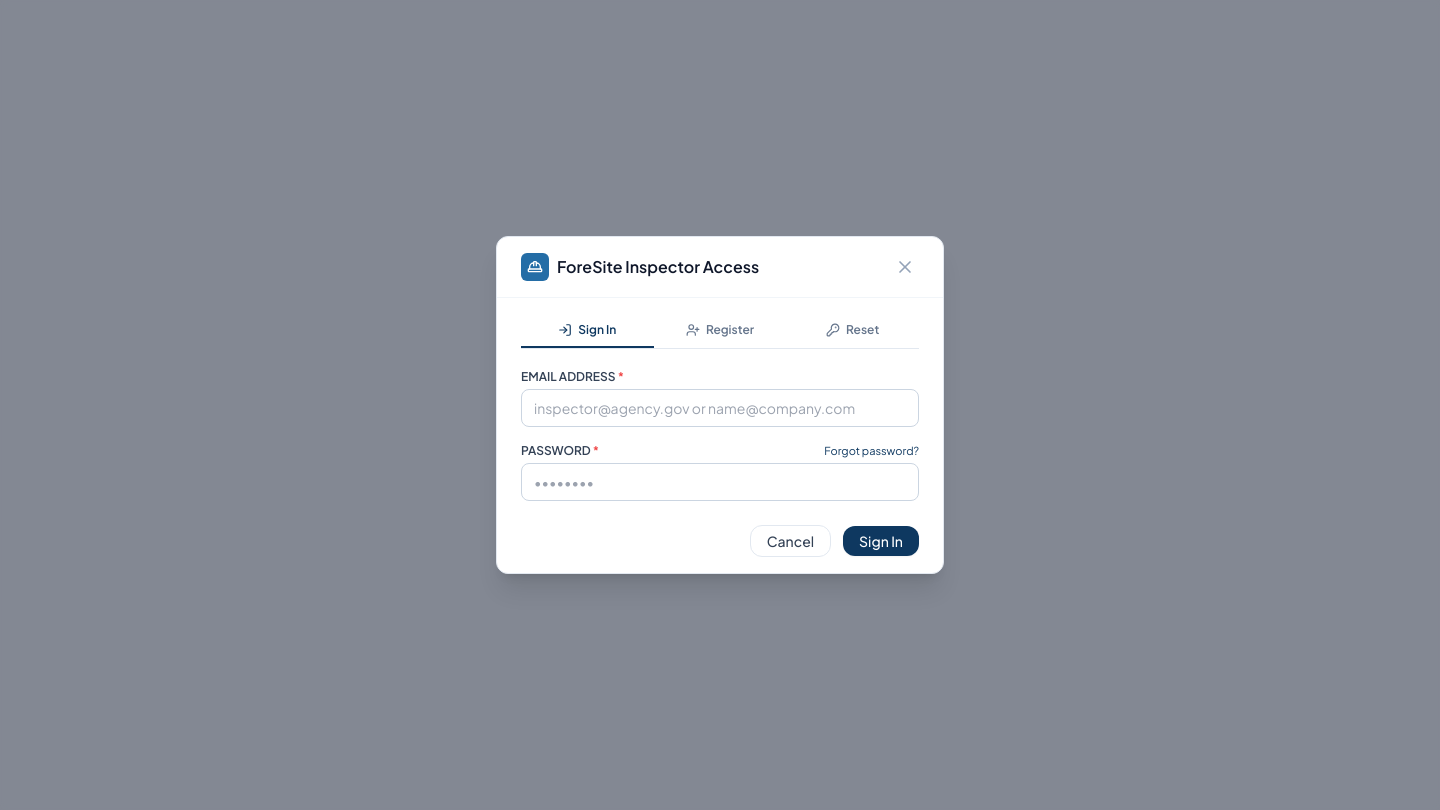
ForeSite Inspector Auth Modal UI › validates that password must be at least 6 characters on register
Click the button "Register".
click(720, 331)  # box [654,314,786,348]
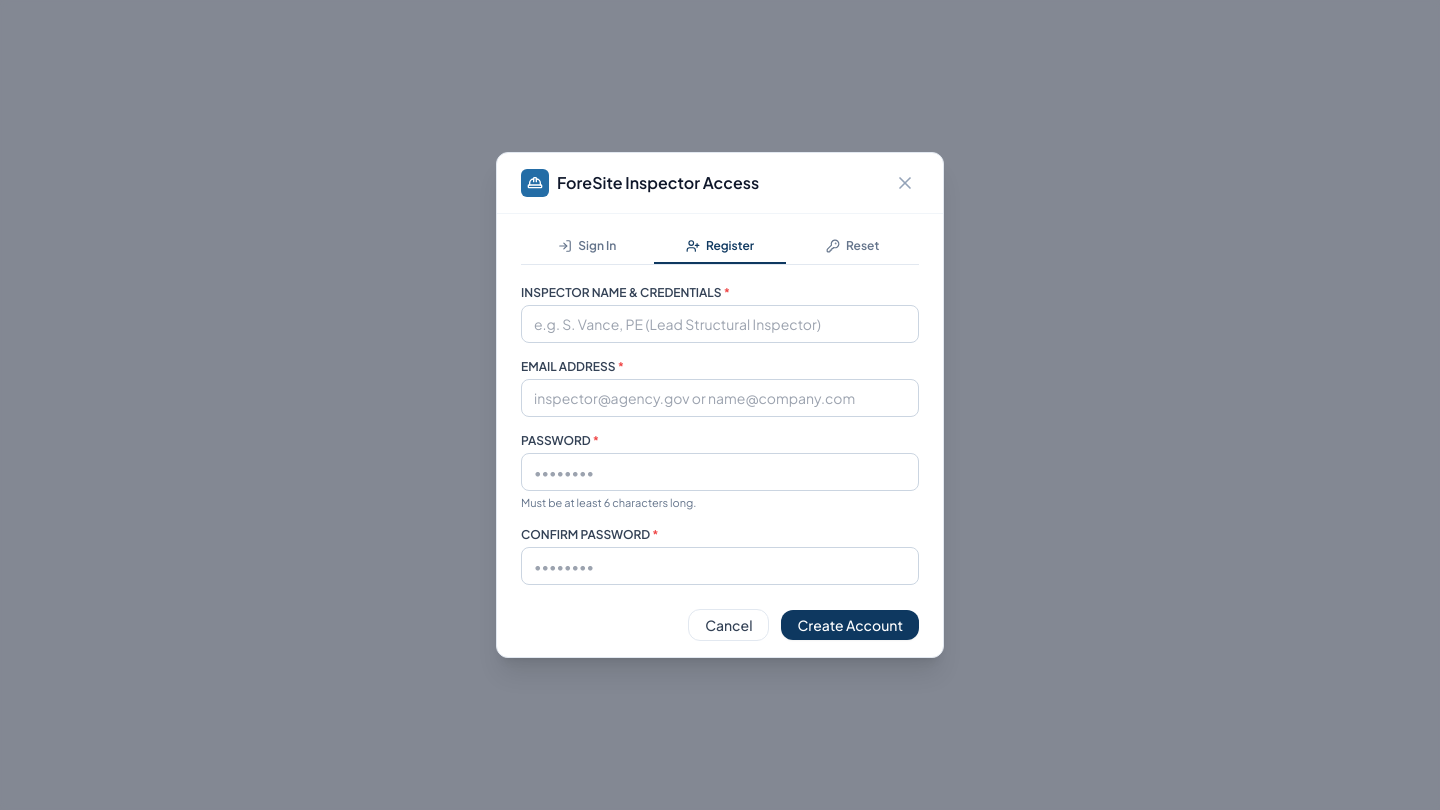
Type "John Doe, PE" into the field labelled "Inspector Name & Credentials *".
click(720, 324); type("John Doe, PE")  # box [521,305,919,343]
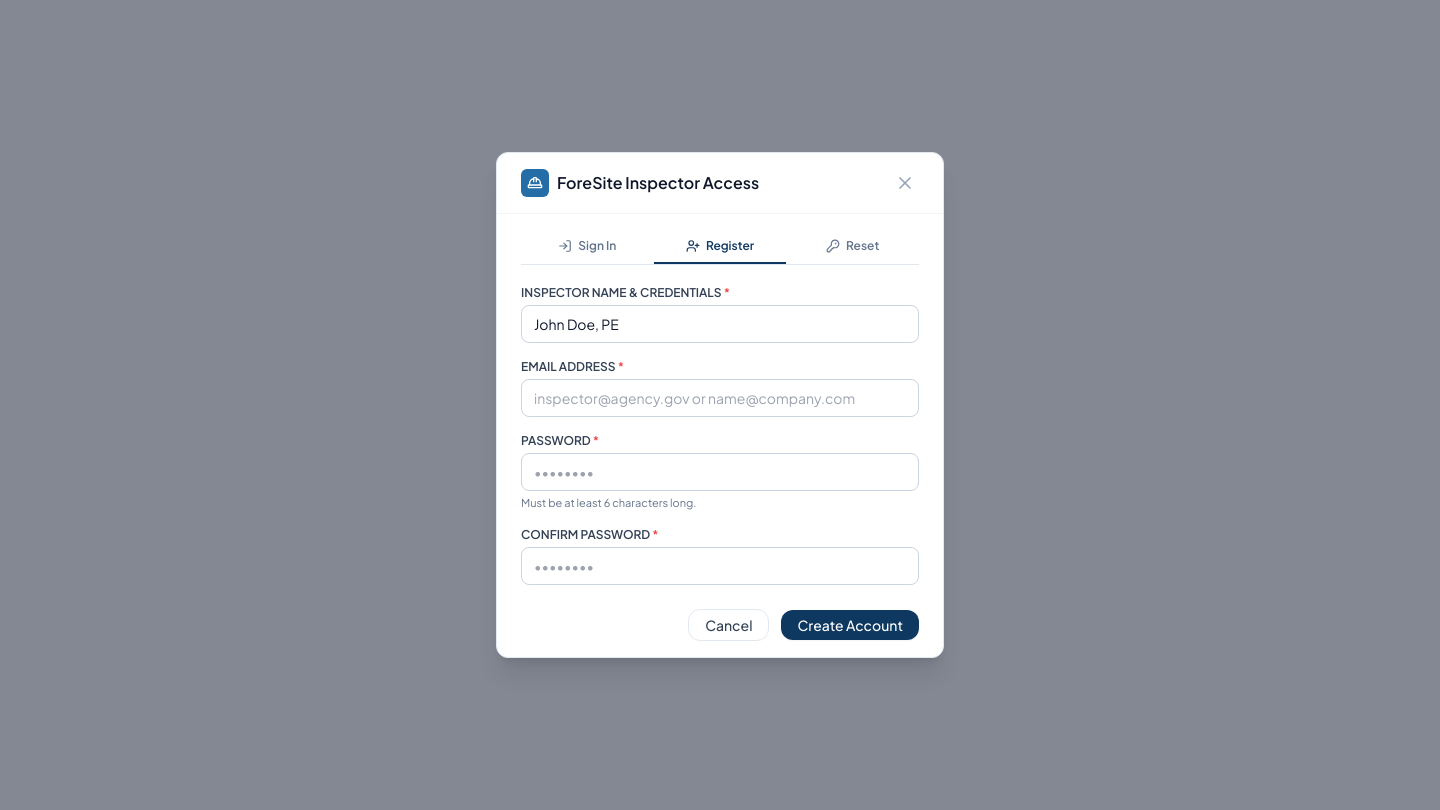
Type "john@example.com" into the field labelled "Email Address *".
click(720, 398); type("john@example.com")  # box [521,379,919,417]
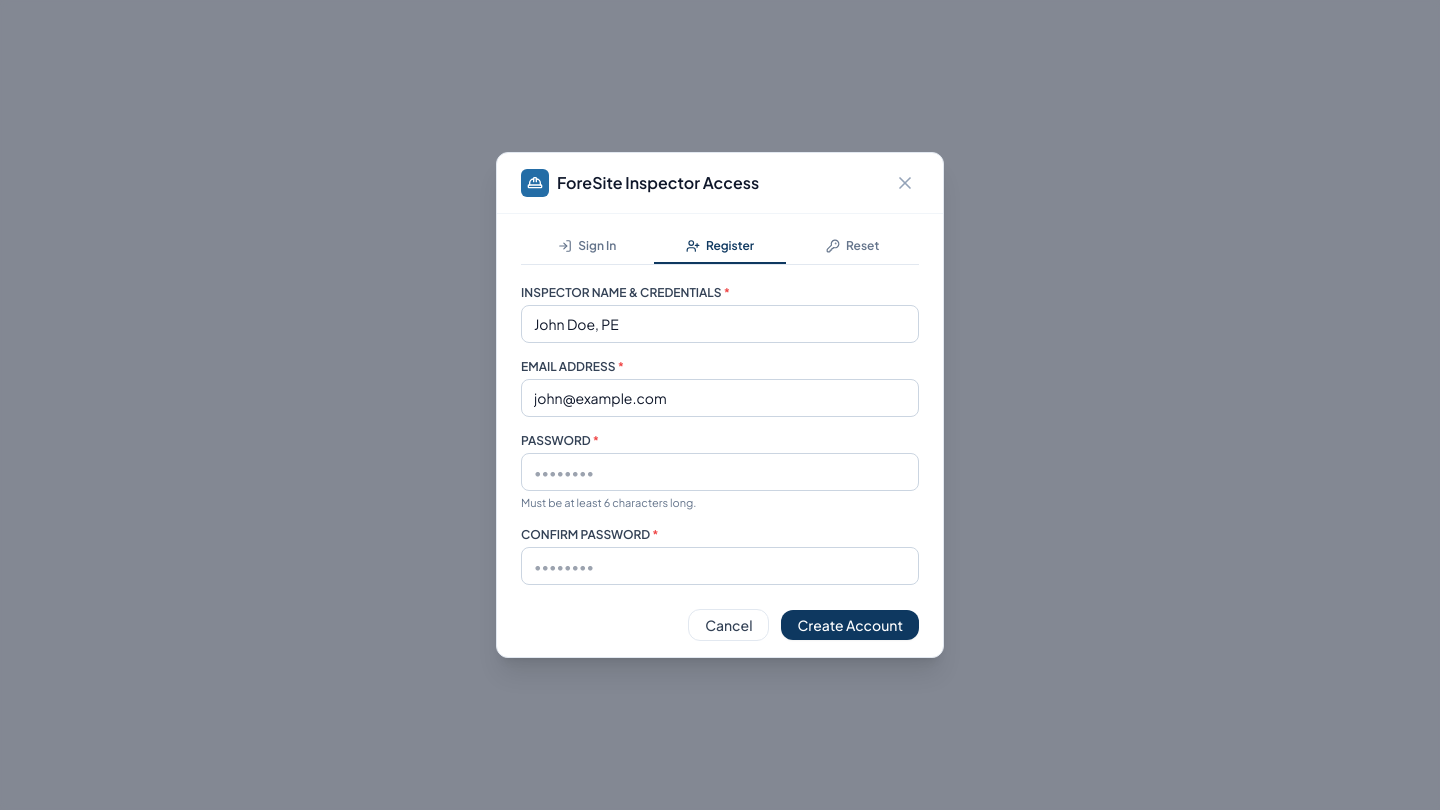
Type "123" into the password field labelled "Password *".
click(720, 472); type("123")  # box [521,453,919,491]
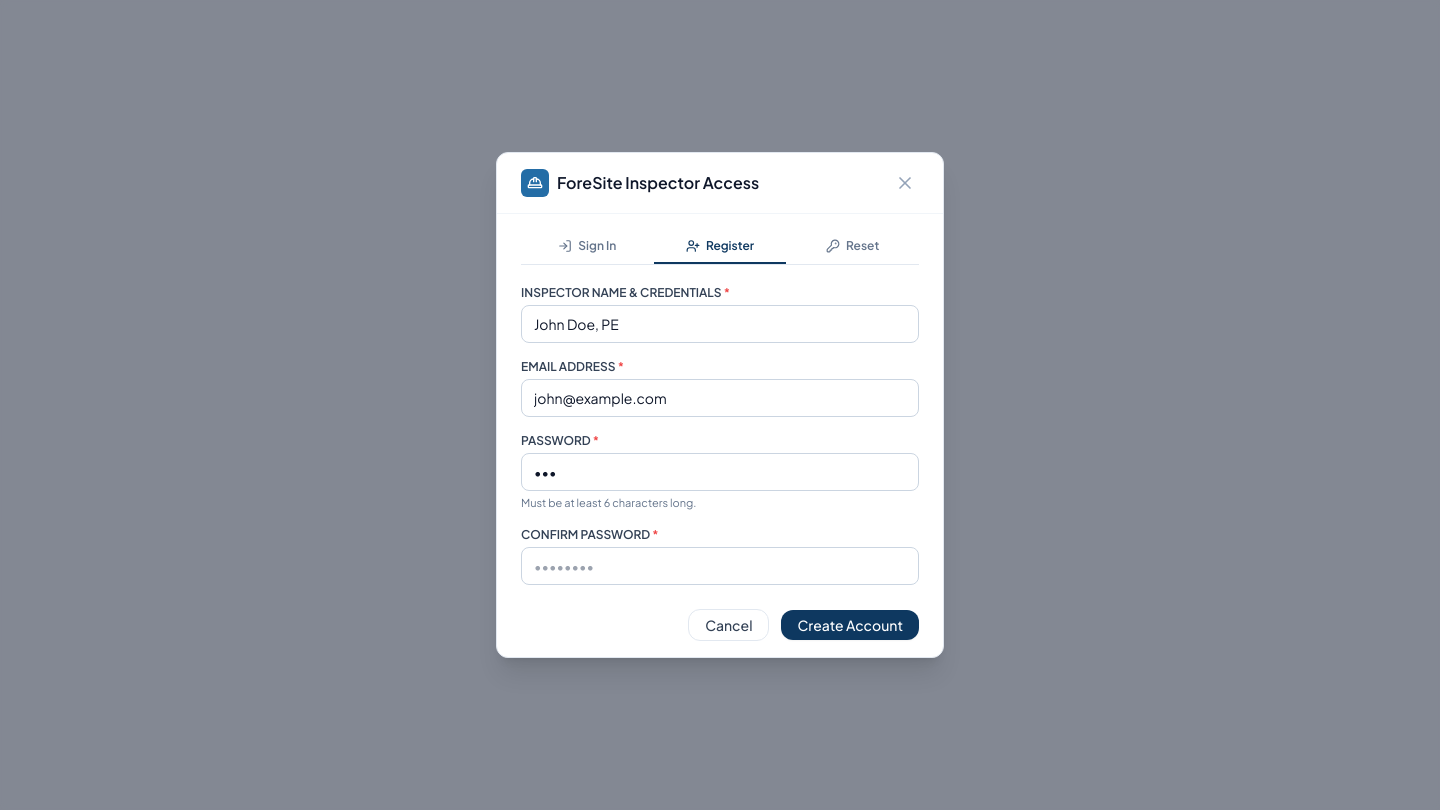
Type "123" into the password field labelled "Confirm Password *".
click(720, 566); type("123")  # box [521,547,919,585]
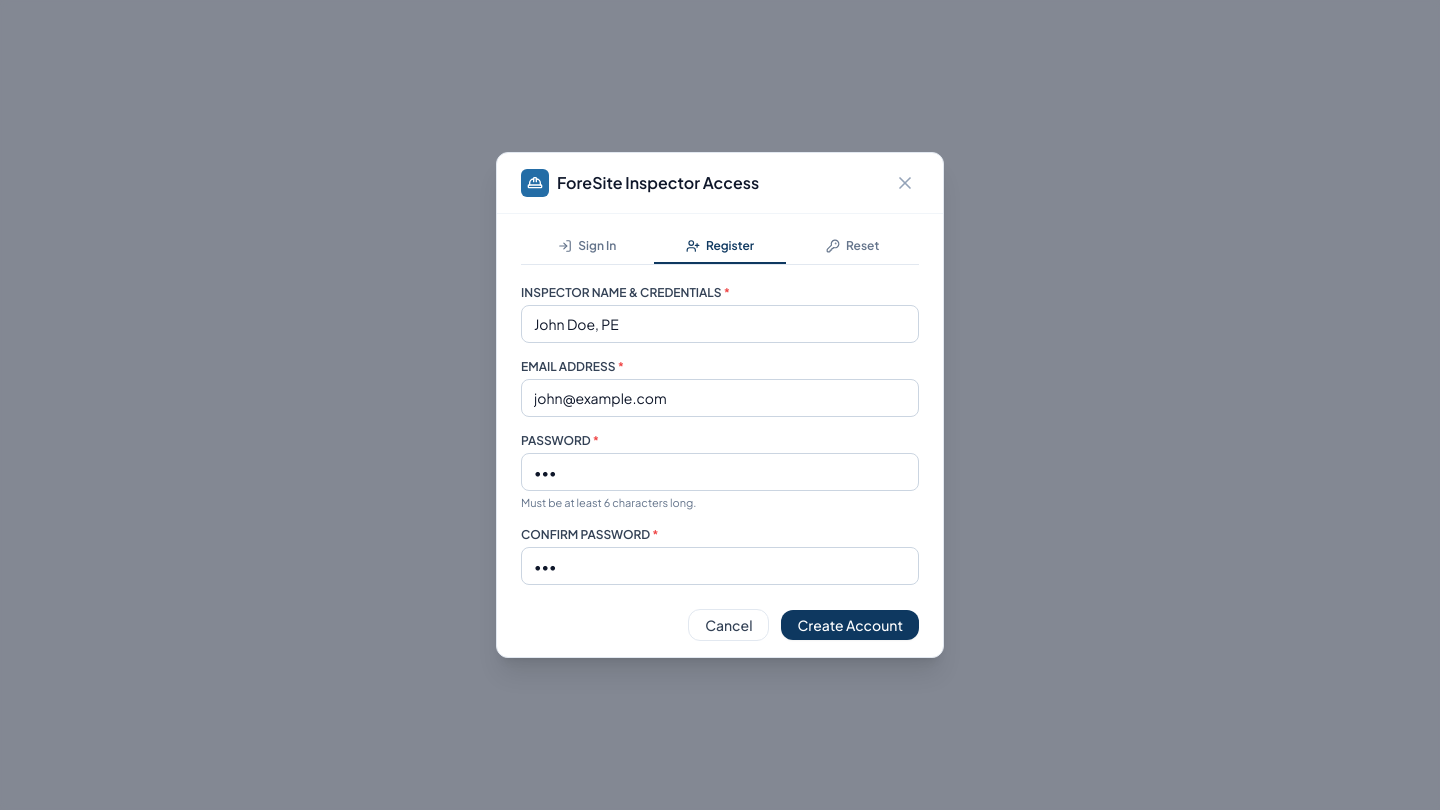
Click the button "Create Account".
click(850, 625)  # box [782,610,919,640]
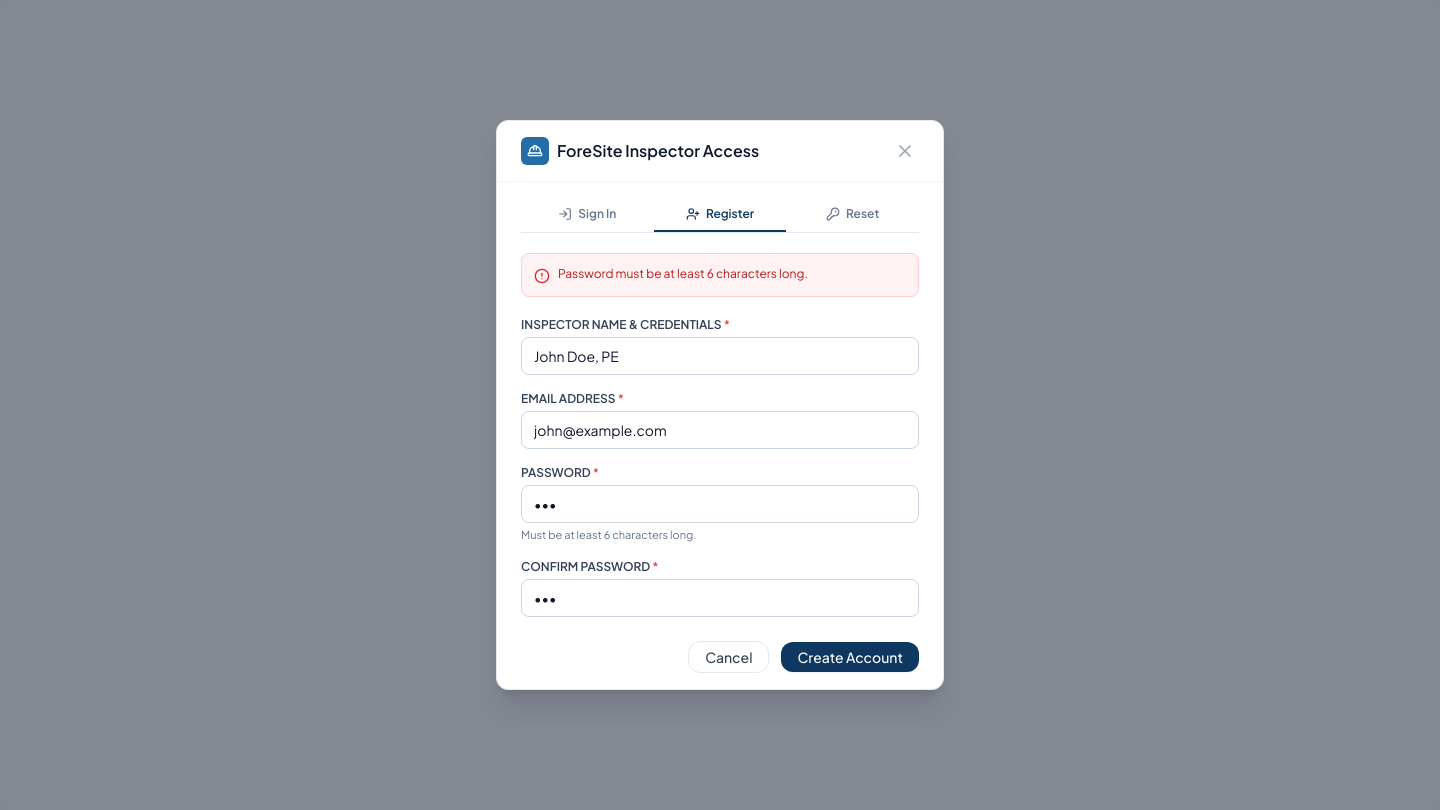
Expected: the text "Password must be at least 6 characters long." is shown, [558,266,808,282]
